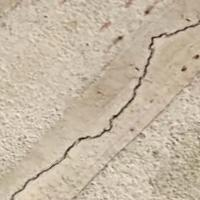crack: (4, 18, 199, 199)
